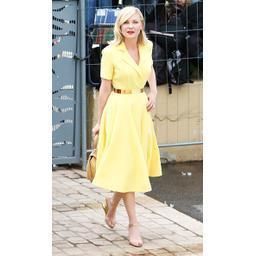dress: (92, 38, 162, 193)
